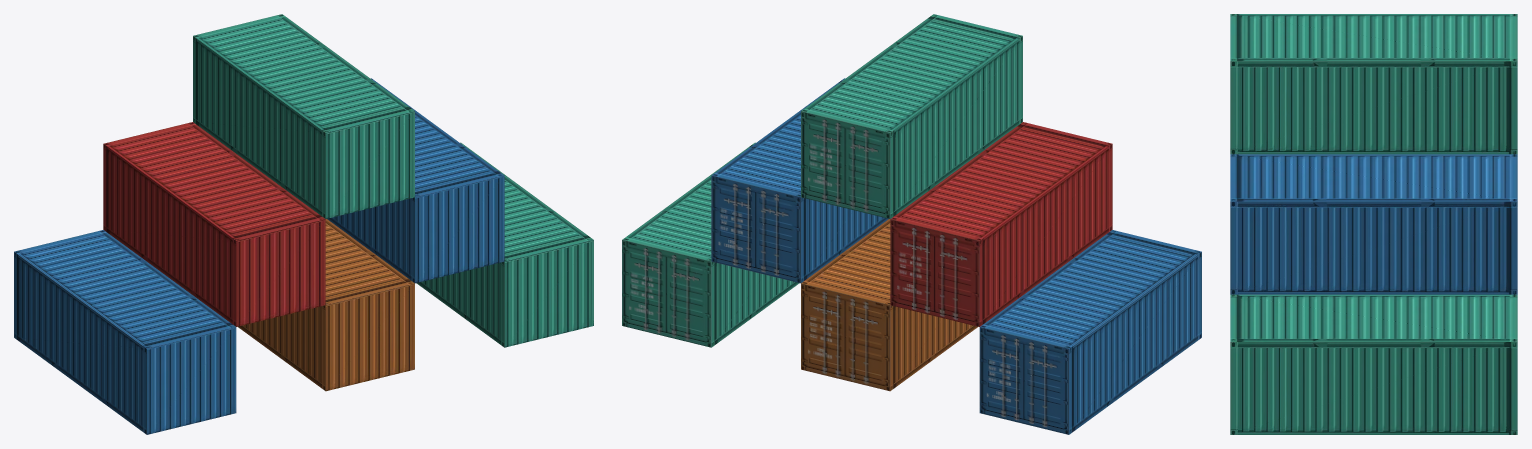
Rendered from Containers.fbx.
3 views of the same model, side by side, from view 1: azimuth 30°, elevation 25°; view 2: azimuth 150°, elevation 25°; view 3: azimuth 270°, elevation 25° (orthographic). The views are drawn at different scales.
Visible parts, largest first — view 1: CT 05, CT 04, CT 06, CT 02, CT 01, CT 03; view 2: CT 05, CT 04, CT 06, CT 02, CT 01, CT 03; view 3: CT 01, CT 02, CT 06.
Part boxes in pixels (x1,y1,x2,y2): CT 05: (14, 230, 236, 434); CT 04: (103, 122, 325, 326); CT 06: (193, 14, 414, 218); CT 02: (327, 78, 504, 283); CT 01: (416, 142, 593, 347); CT 03: (238, 219, 414, 391); CT 05: (979, 230, 1201, 434); CT 04: (890, 122, 1112, 326); CT 06: (801, 14, 1022, 218); CT 02: (711, 78, 888, 283); CT 01: (622, 142, 799, 347); CT 03: (801, 219, 977, 391); CT 01: (1230, 294, 1517, 434); CT 02: (1230, 154, 1517, 294); CT 06: (1230, 14, 1517, 154).
Size of the model in its own units: 55.24 by 30.51 by 28.44.
